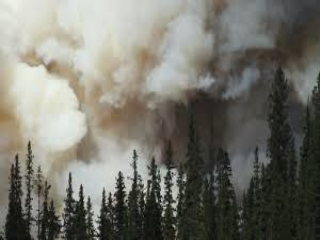smoke: (4, 11, 99, 171)
